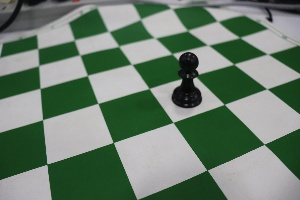black_pawn: (166, 41, 208, 110)
